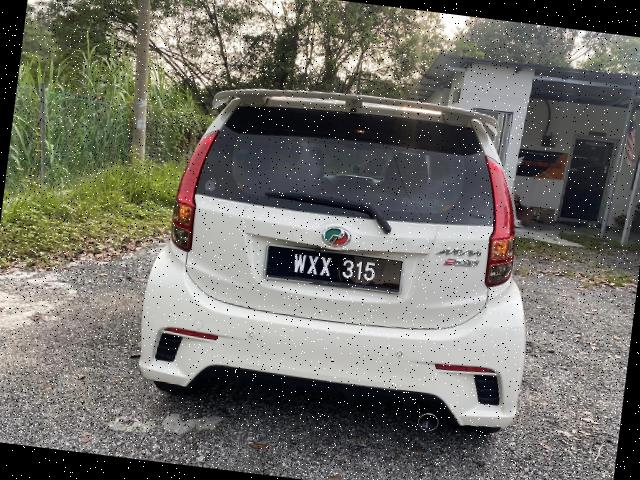License_Plate: (270, 247, 388, 293)
car: (145, 83, 556, 466)
